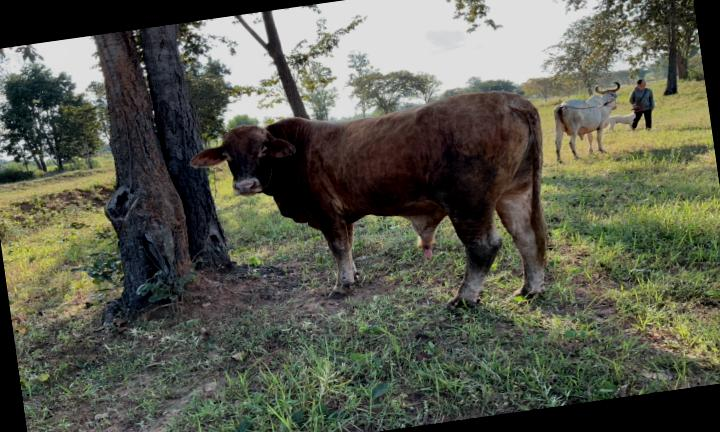Charolais: (190, 91, 546, 305)
